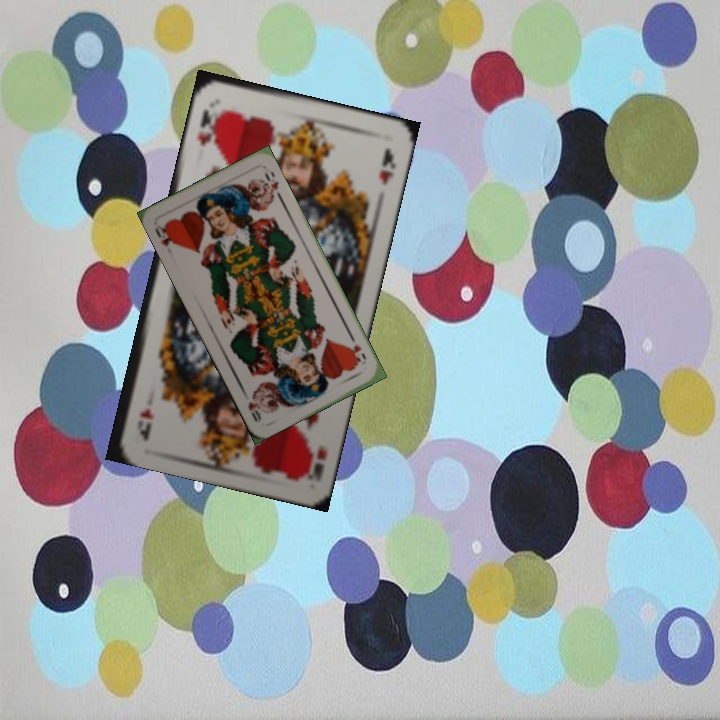HK: (193, 104, 224, 149), (299, 441, 329, 483)
HO: (151, 220, 179, 257), (345, 331, 369, 367)
